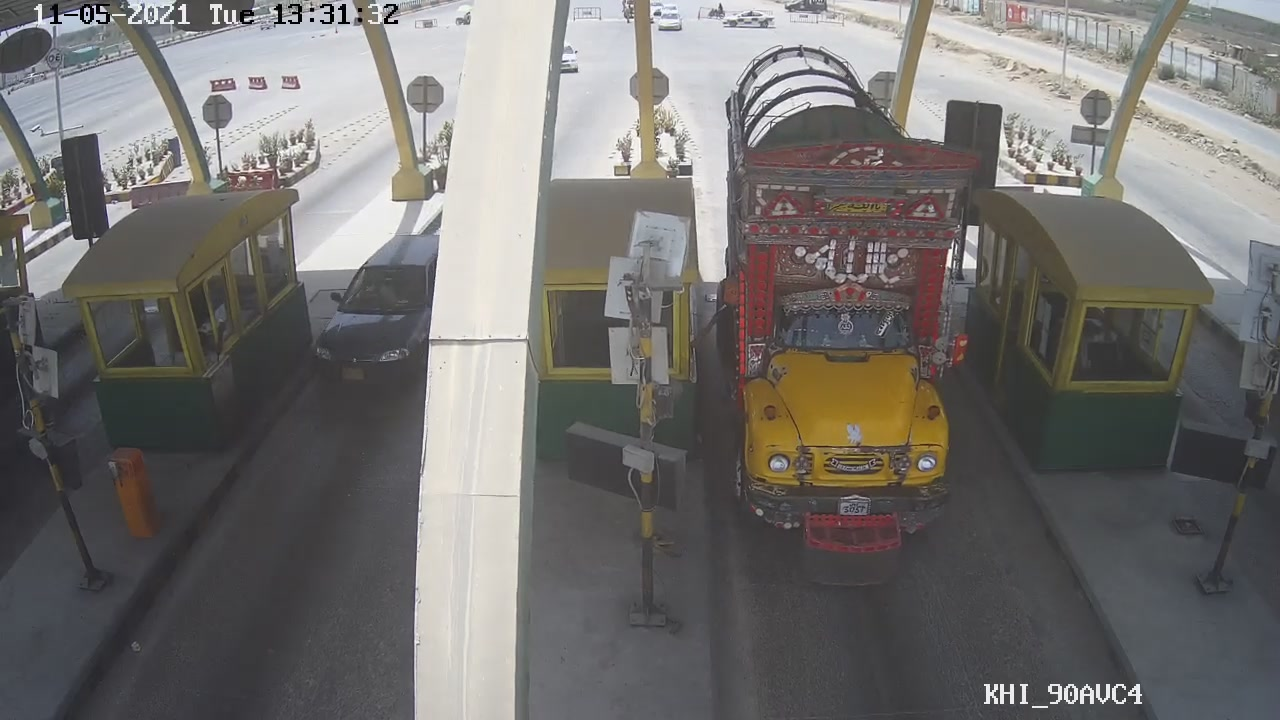F5: (711, 41, 988, 589)
